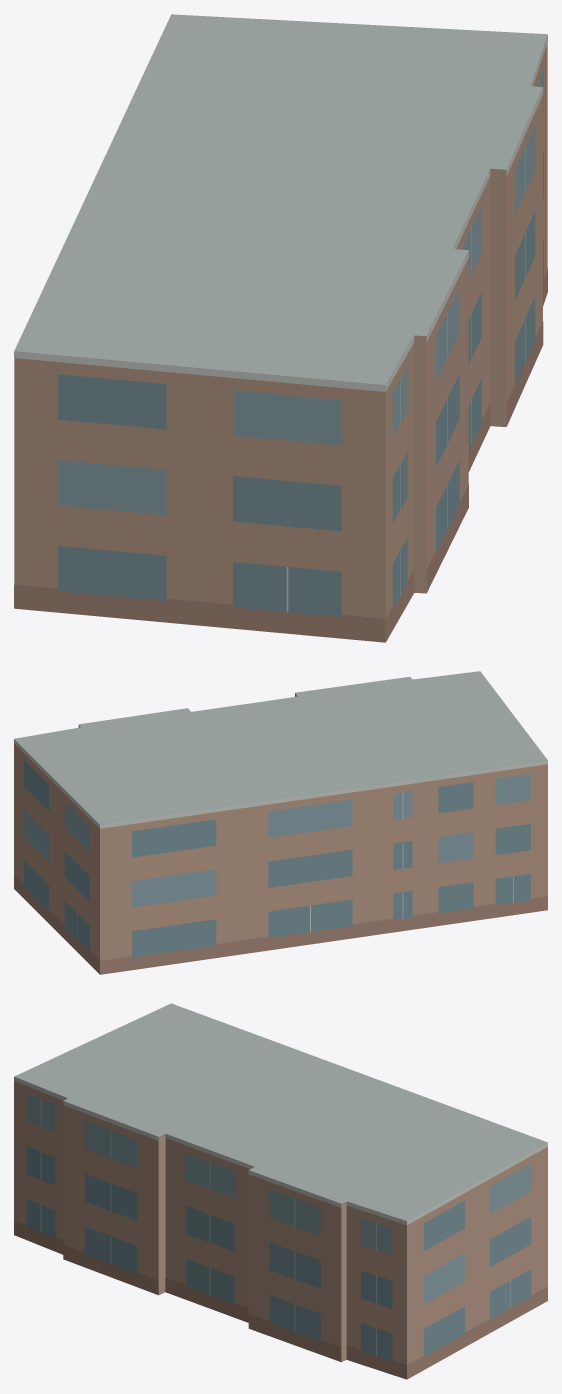
File: survey-upis-32889900.glb
3 renders of one model, top to bottom at view 1: azimuth 30°, elevation 25°; view 2: azimuth 150°, elevation 25°; view 3: azimuth 270°, elevation 25°, orthographic. The views are drawn at different scales.
Parts seen in each view (by area): view 1: survey-upis-32889900.tmp; view 2: survey-upis-32889900.tmp; view 3: survey-upis-32889900.tmp.
Boxes of the visible parts, left/top/right/bottom form: survey-upis-32889900.tmp: left=14, top=14, right=547, bottom=642; survey-upis-32889900.tmp: left=14, top=671, right=547, bottom=974; survey-upis-32889900.tmp: left=14, top=1003, right=547, bottom=1379.
Bounding box in the file's own units: 26.97 × 9.15 × 27.94.
